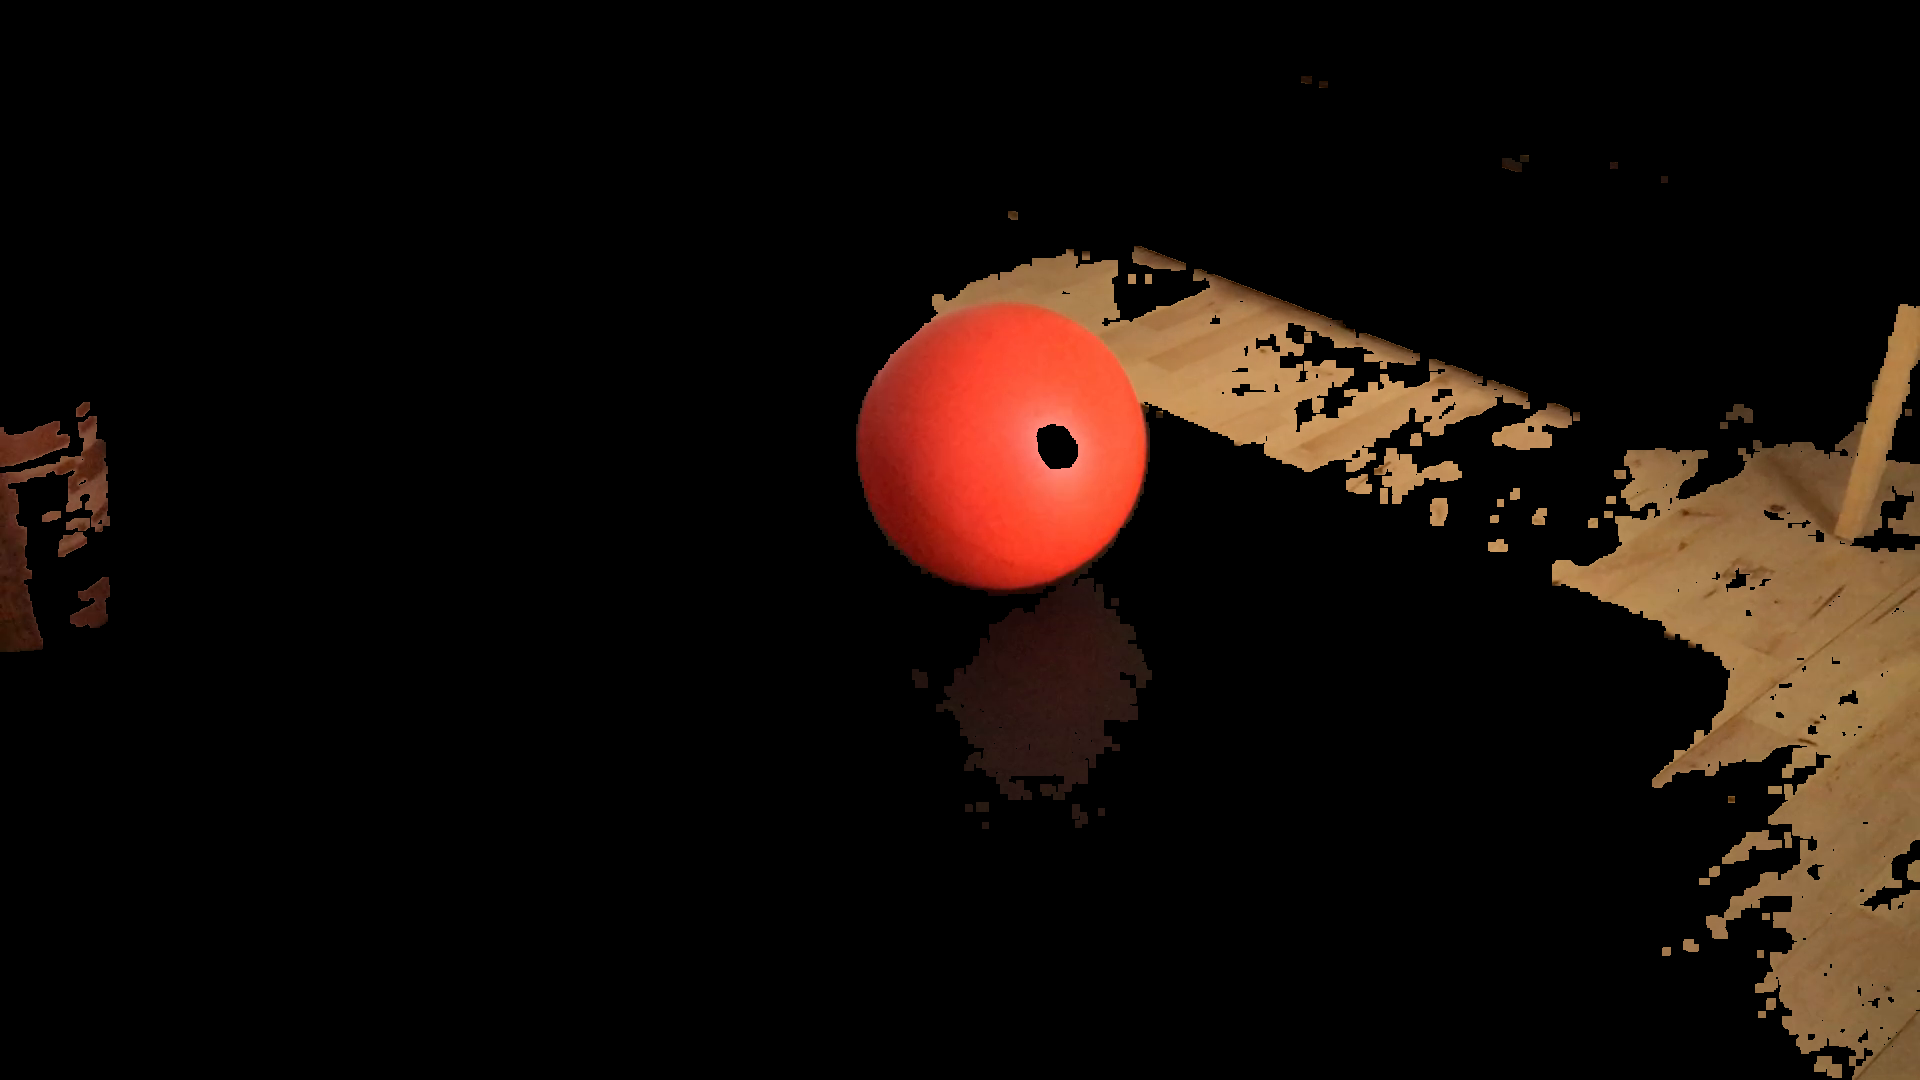Ball: (856, 295, 1150, 593)
